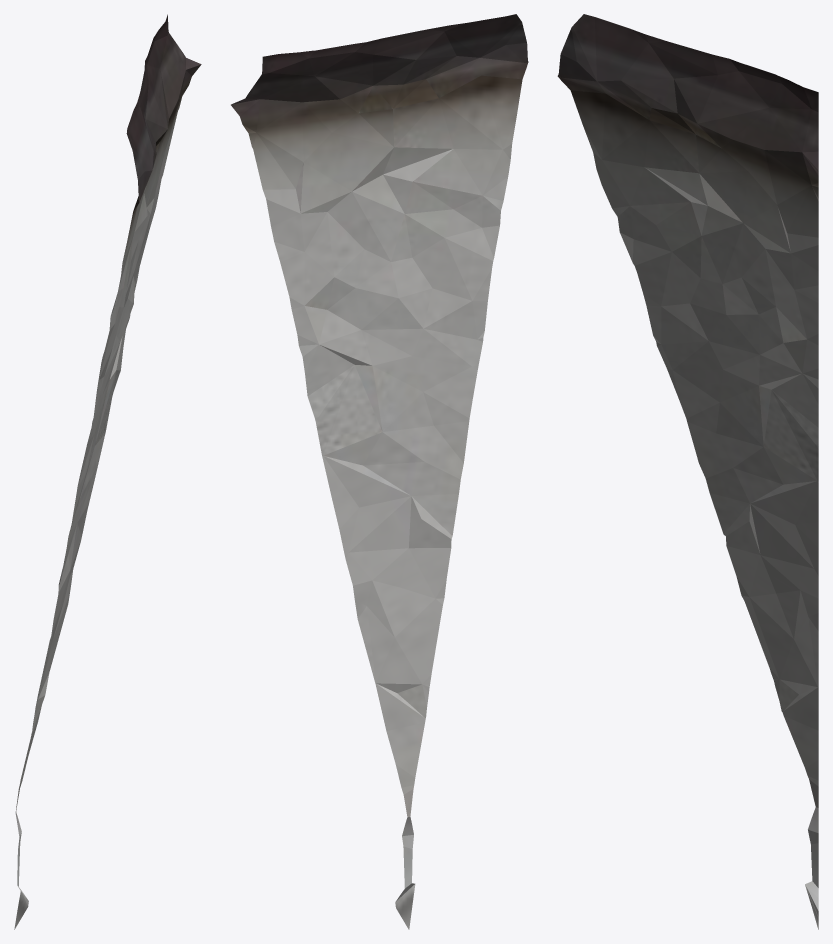
The picture shows the model from 3 angles, left to right: view 1: azimuth 30°, elevation 25°; view 2: azimuth 150°, elevation 25°; view 3: azimuth 270°, elevation 25°; orthographic projection. The views are drawn at different scales.
Bounding box in the file's own units: 0.1674 × 0.7496 × 0.1936.
Materials: 1 (1 with a texture image).
